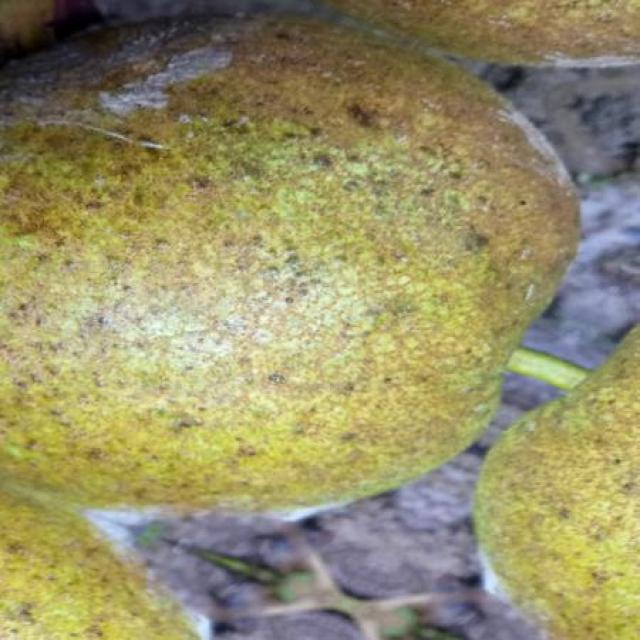Scab: (0, 21, 578, 506), (475, 325, 640, 639), (1, 474, 198, 640)
